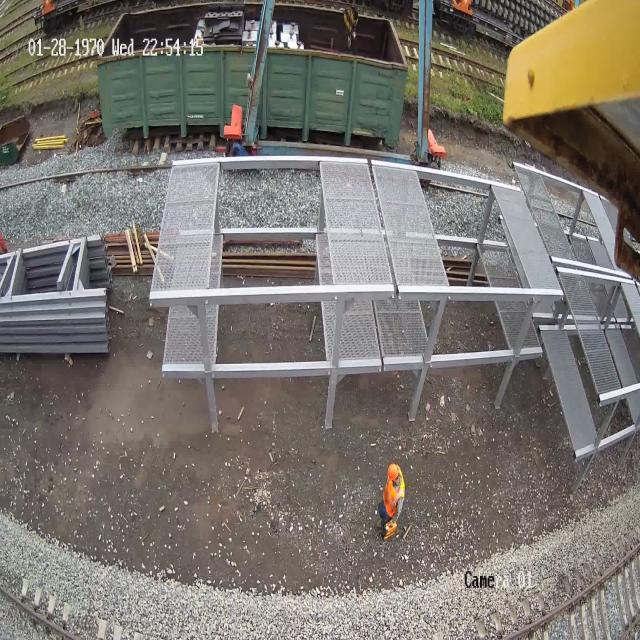Helmet: (387, 462, 399, 481)
Person: (378, 462, 405, 539)
